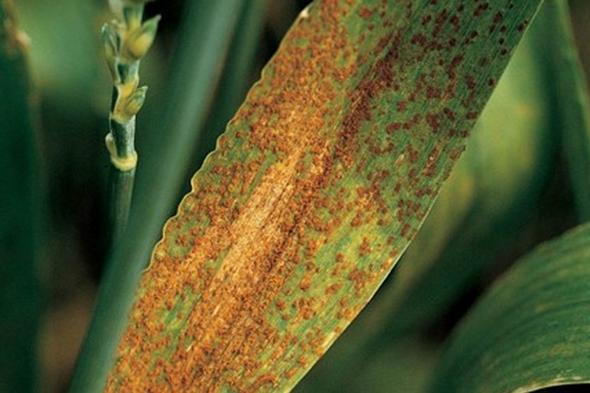Corn rust leaf: (72, 1, 554, 393)
